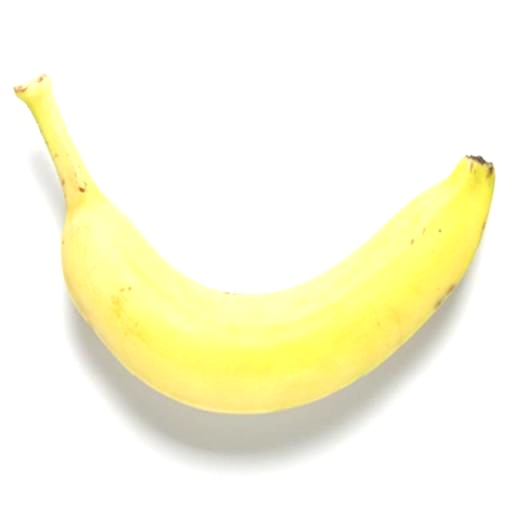fruit: (15, 74, 495, 412)
